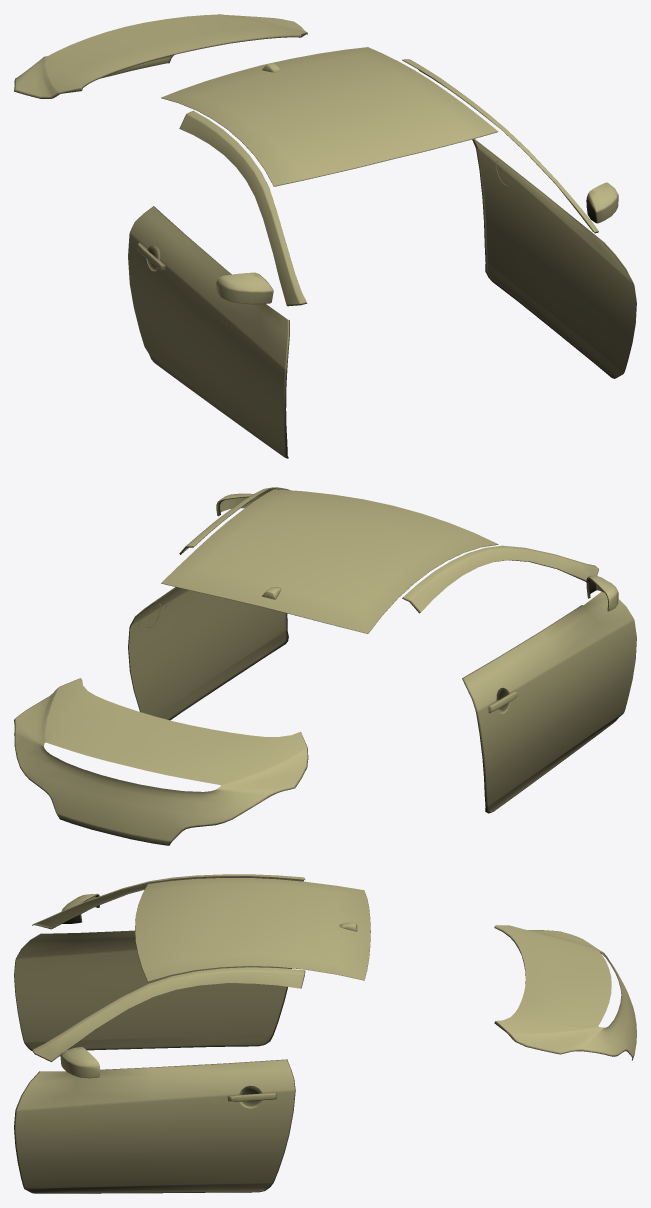
Rendered from G37_Chassis_Duco.fbx.
3 renders of one model, top to bottom at view 1: azimuth 30°, elevation 25°; view 2: azimuth 150°, elevation 25°; view 3: azimuth 270°, elevation 25°, orthographic. The views are drawn at different scales.
Parts seen in each view (by area): view 1: G37_Chassis_Duco; view 2: G37_Chassis_Duco; view 3: G37_Chassis_Duco.
Part boxes in pixels (left/top/right/bottom): G37_Chassis_Duco: left=14, top=14, right=636, bottom=458; G37_Chassis_Duco: left=14, top=487, right=636, bottom=845; G37_Chassis_Duco: left=14, top=874, right=636, bottom=1193.
Bounding box in the file's own units: 200 × 112 × 307.
